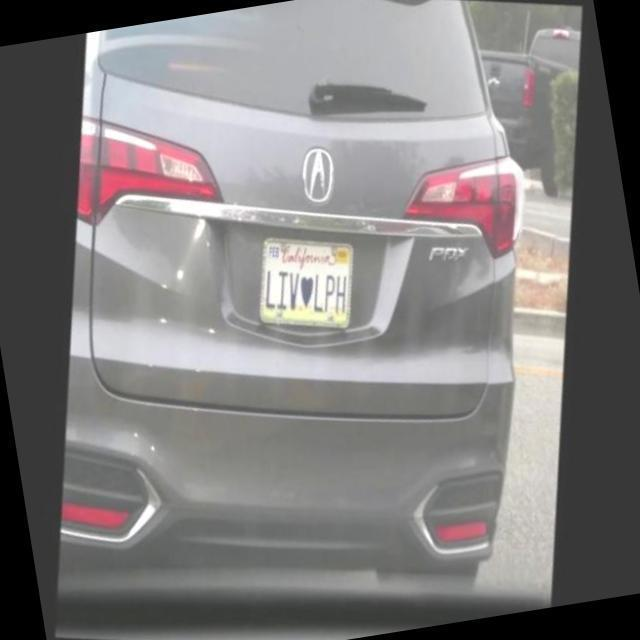license_plate: (237, 208, 379, 356)
